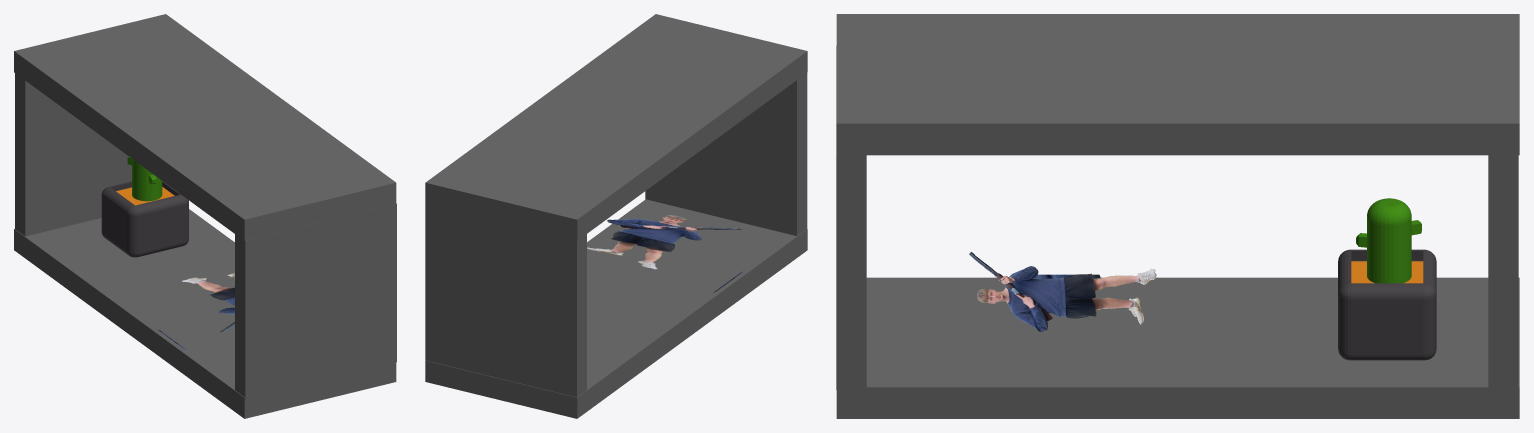
Rendered from Pynte_ting.fbx.
3 renders of one model, left to right at view 1: azimuth 30°, elevation 25°; view 2: azimuth 150°, elevation 25°; view 3: azimuth 270°, elevation 25°, orthographic. The views are drawn at different scales.
Visible parts, largest first — view 1: Cube.004, Cube.002, Cube.001, Cube.003, Cube.006, Cylinder, Cube.005; view 2: Cube.004, Cube.001, Cube.003, Cube.002, Cube.005; view 3: Cube.004, Cube.001, Cube.006, Cube.002, Cube.003, Cube.005, Cylinder, Cube.007.
Part boxes in pixels (left/top/right/bottom): Cube.004: left=14, top=14, right=396, bottom=240; Cube.002: left=235, top=203, right=396, bottom=399; Cube.001: left=14, top=209, right=396, bottom=418; Cube.003: left=15, top=73, right=131, bottom=236; Cube.006: left=101, top=181, right=188, bottom=257; Cylinder: left=127, top=156, right=162, bottom=201; Cube.005: left=158, top=273, right=234, bottom=351; Cube.004: left=425, top=14, right=807, bottom=240; Cube.001: left=425, top=199, right=807, bottom=418; Cube.003: left=425, top=204, right=586, bottom=397; Cube.002: left=645, top=73, right=807, bottom=235; Cube.005: left=587, top=215, right=743, bottom=292; Cube.004: left=836, top=14, right=1519, bottom=155; Cube.001: left=836, top=277, right=1519, bottom=418; Cube.006: left=1338, top=249, right=1436, bottom=360; Cube.002: left=836, top=46, right=866, bottom=390; Cube.003: left=1488, top=155, right=1518, bottom=390; Cube.005: left=969, top=252, right=1156, bottom=331; Cylinder: left=1356, top=198, right=1421, bottom=283; Cube.007: left=1351, top=261, right=1423, bottom=283.
Size of the model in its own units: 116 by 146 by 305.
